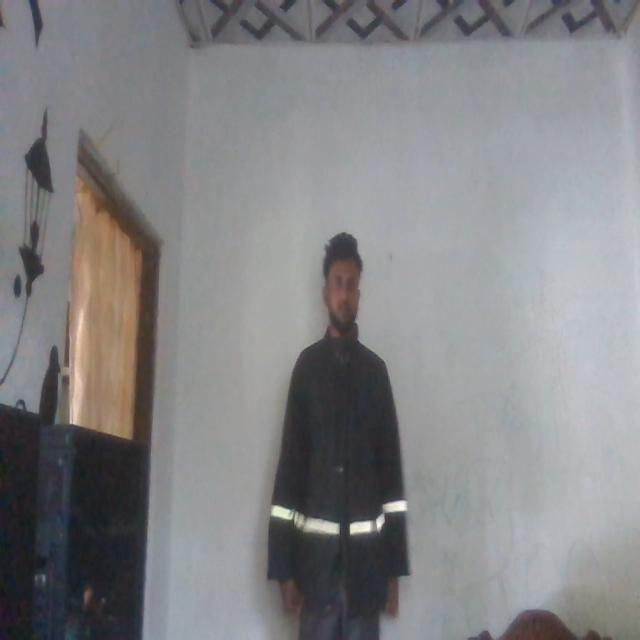Jacket_Wearer: (260, 332, 414, 610)
Person: (255, 225, 409, 640)
